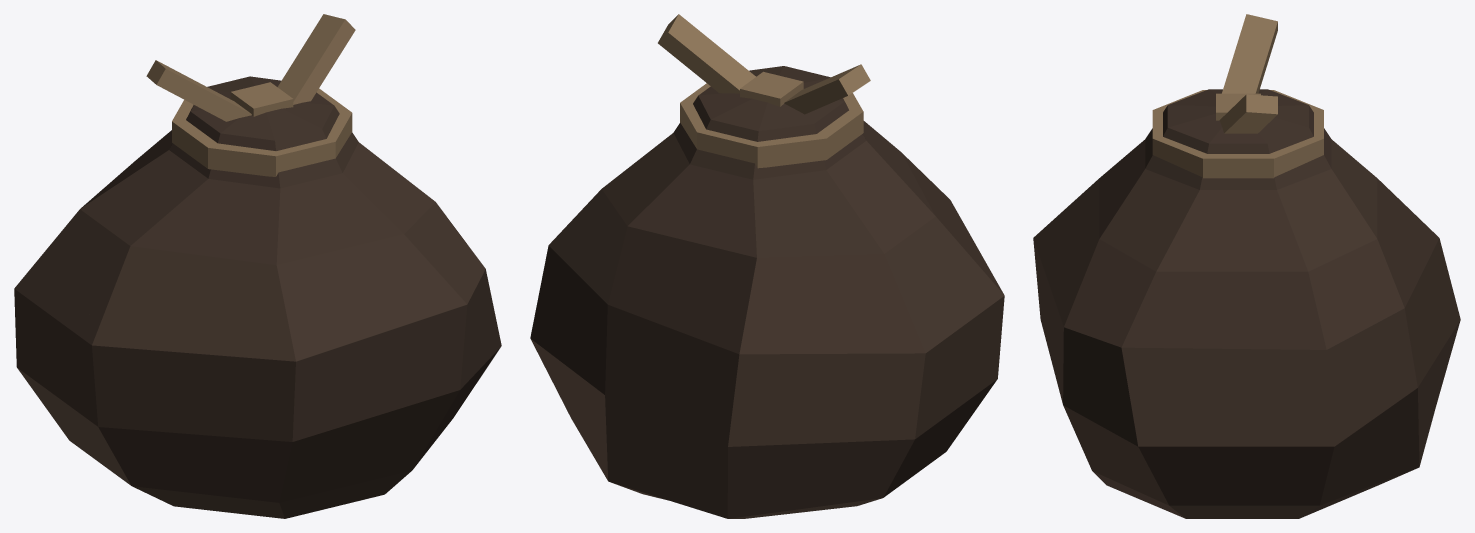
File: Loot_Bag.gltf
3 renders of one model, left to right at view 1: azimuth 30°, elevation 25°; view 2: azimuth 150°, elevation 25°; view 3: azimuth 270°, elevation 25°, orthographic. The views are drawn at different scales.
Parts seen in each view (by area): view 1: sack_body, cinch_rope, knot_ear_r, knot_ear_l, knot_core; view 2: sack_body, cinch_rope, knot_ear_r, knot_ear_l, knot_core; view 3: sack_body, cinch_rope, knot_ear_l, knot_ear_r, knot_core.
Part boxes in pixels (left/top/right/bottom): sack_body: left=14, top=76, right=501, bottom=518; cinch_rope: left=172, top=88, right=352, bottom=176; knot_ear_r: left=277, top=14, right=355, bottom=104; knot_ear_l: left=146, top=60, right=251, bottom=121; knot_core: left=230, top=82, right=293, bottom=116; sack_body: left=530, top=66, right=1004, bottom=518; cinch_rope: left=680, top=83, right=863, bottom=168; knot_ear_r: left=658, top=14, right=755, bottom=93; knot_ear_l: left=784, top=64, right=870, bottom=114; knot_core: left=740, top=71, right=803, bottom=106; sack_body: left=1033, top=89, right=1460, bottom=518; cinch_rope: left=1152, top=90, right=1323, bottom=178; knot_ear_l: left=1222, top=14, right=1277, bottom=93; knot_ear_r: left=1219, top=94, right=1277, bottom=133; knot_core: left=1216, top=93, right=1260, bottom=120.
Bounding box in the file's own units: 0.6707 × 0.7073 × 0.6538.
1 material, 1 textured.
